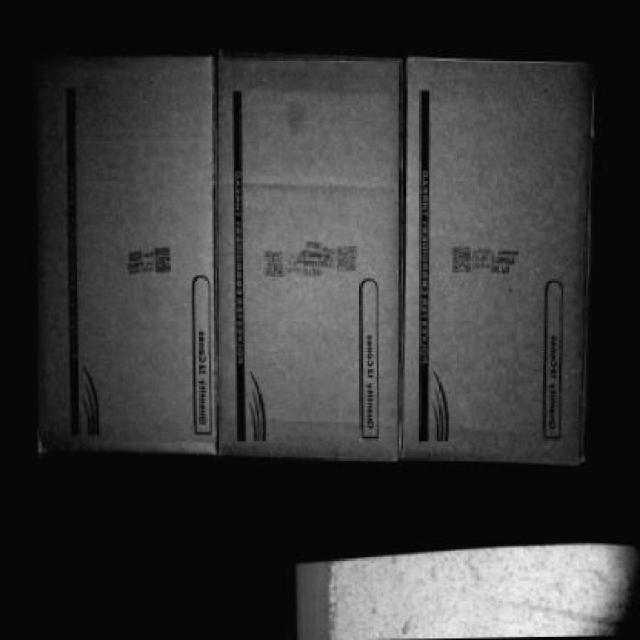cardboxes: (397, 58, 598, 460), (210, 60, 402, 454), (29, 58, 216, 454)
